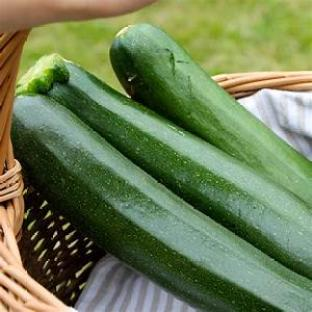Zucchini: (13, 96, 311, 311), (47, 58, 311, 278), (111, 24, 311, 206)
